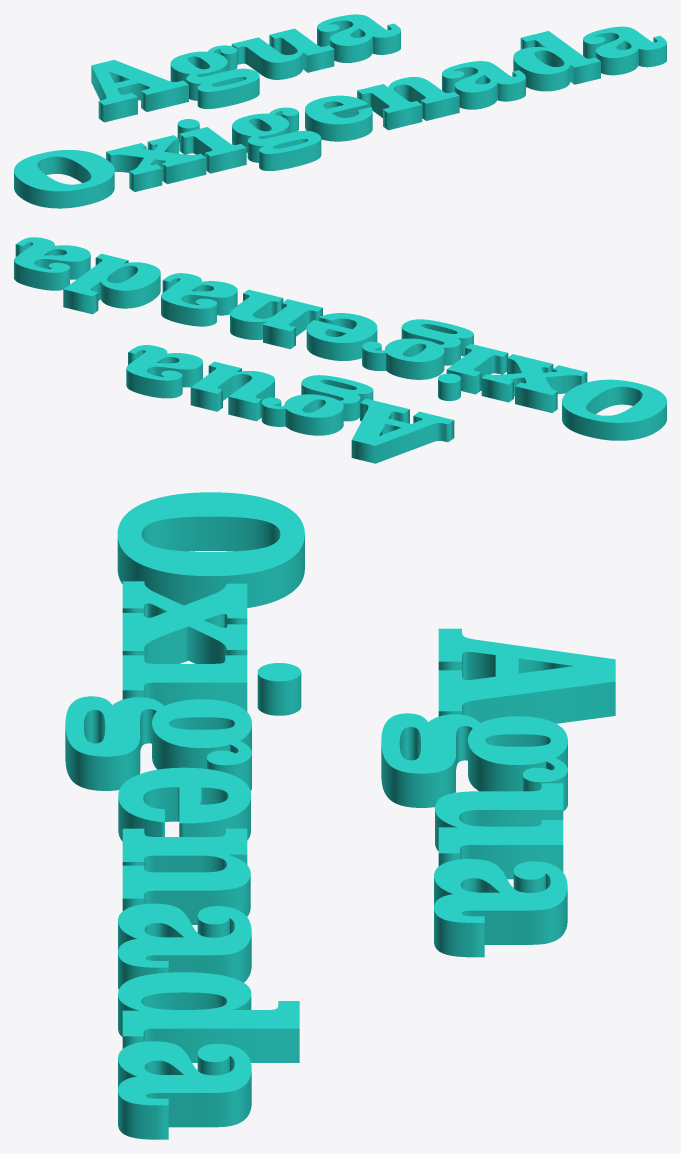
File: HydrogenPeroxideTxt.fbx
3 renders of one model, top to bottom at view 1: azimuth 30°, elevation 25°; view 2: azimuth 150°, elevation 25°; view 3: azimuth 270°, elevation 25°, orthographic. The views are drawn at different scales.
Visible parts, largest first — view 1: Text; view 2: Text; view 3: Text.
Boxes of the visible parts, bbox=[...] form: Text: bbox=[14, 14, 666, 208]; Text: bbox=[14, 237, 666, 463]; Text: bbox=[65, 492, 615, 1139].
Bounding box in the file's own units: 540 × 14.12 × 205.
